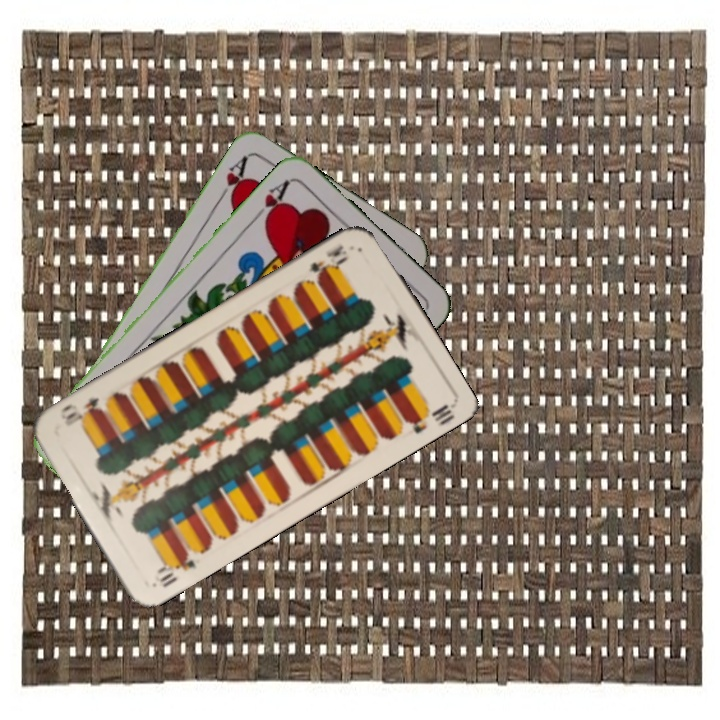E10: (304, 240, 350, 285), (153, 548, 199, 590)
HA: (248, 175, 293, 227), (213, 151, 252, 205)
